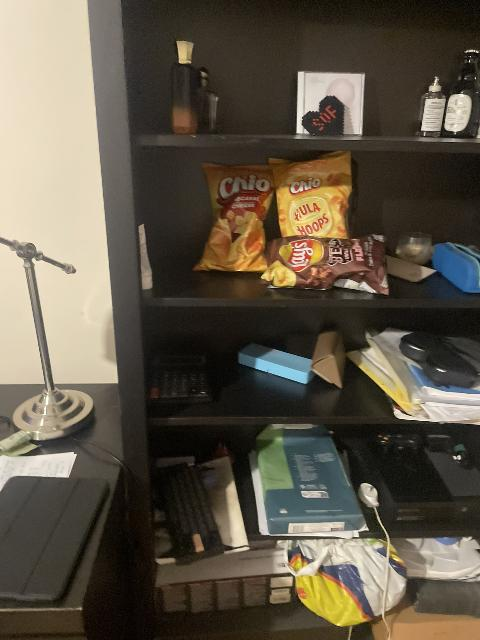Chio Cascaval 125g: (192, 161, 276, 276)
Chio Hula Hoops Cheese 70g: (271, 151, 353, 245)
Lays Beef Grilled Ribs 125g: (261, 234, 386, 291)
